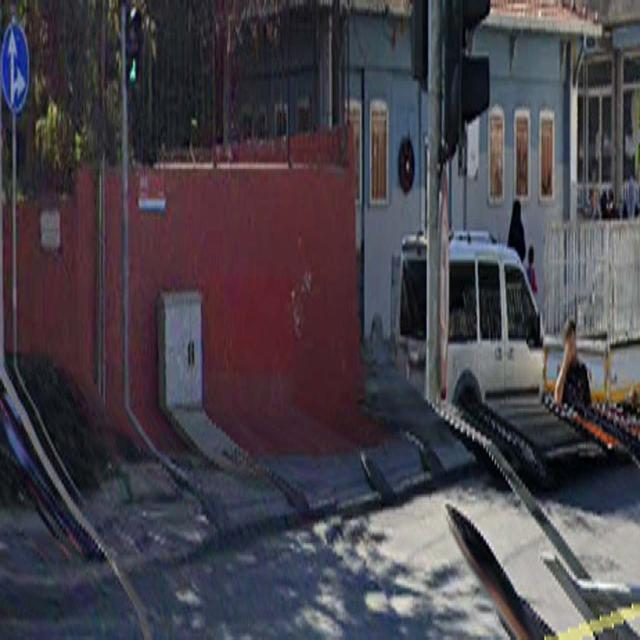ilerisag: (1, 22, 29, 114)
